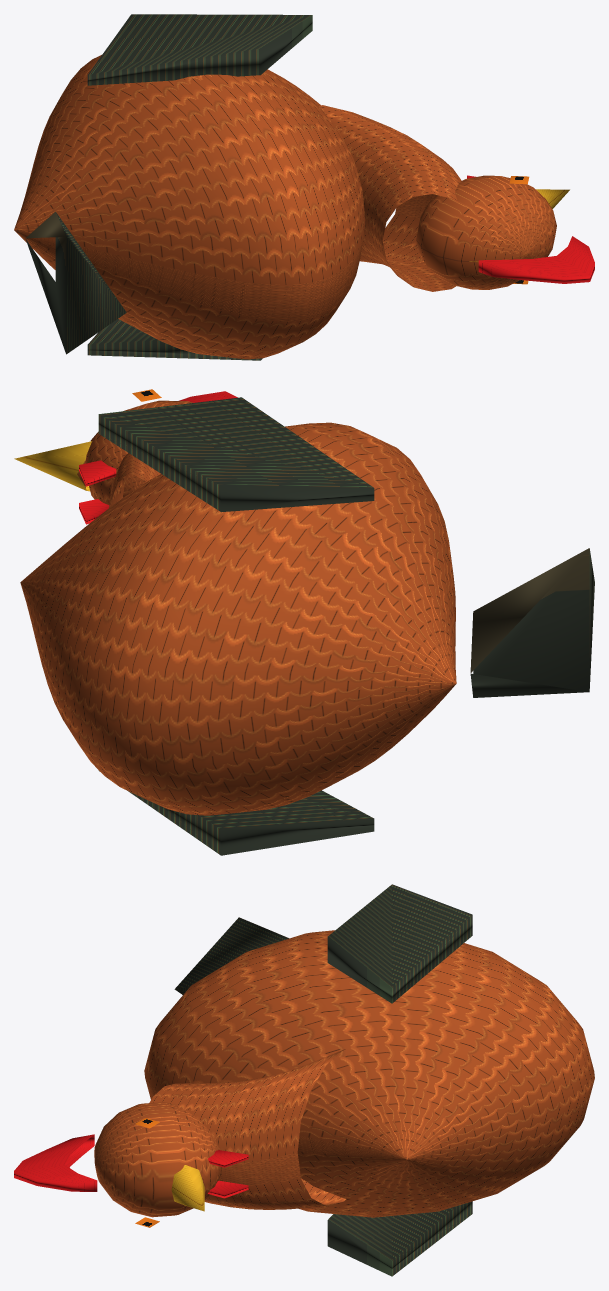
File: chicken_brown_resting.obj
The picture shows the model from 3 angles, top to bottom: view 1: azimuth 30°, elevation 25°; view 2: azimuth 150°, elevation 25°; view 3: azimuth 270°, elevation 25°; orthographic projection. The views are drawn at different scales.
Bounding box in the file's own units: 0.3462 × 0.212 × 0.3604.
1 material, 1 textured.
